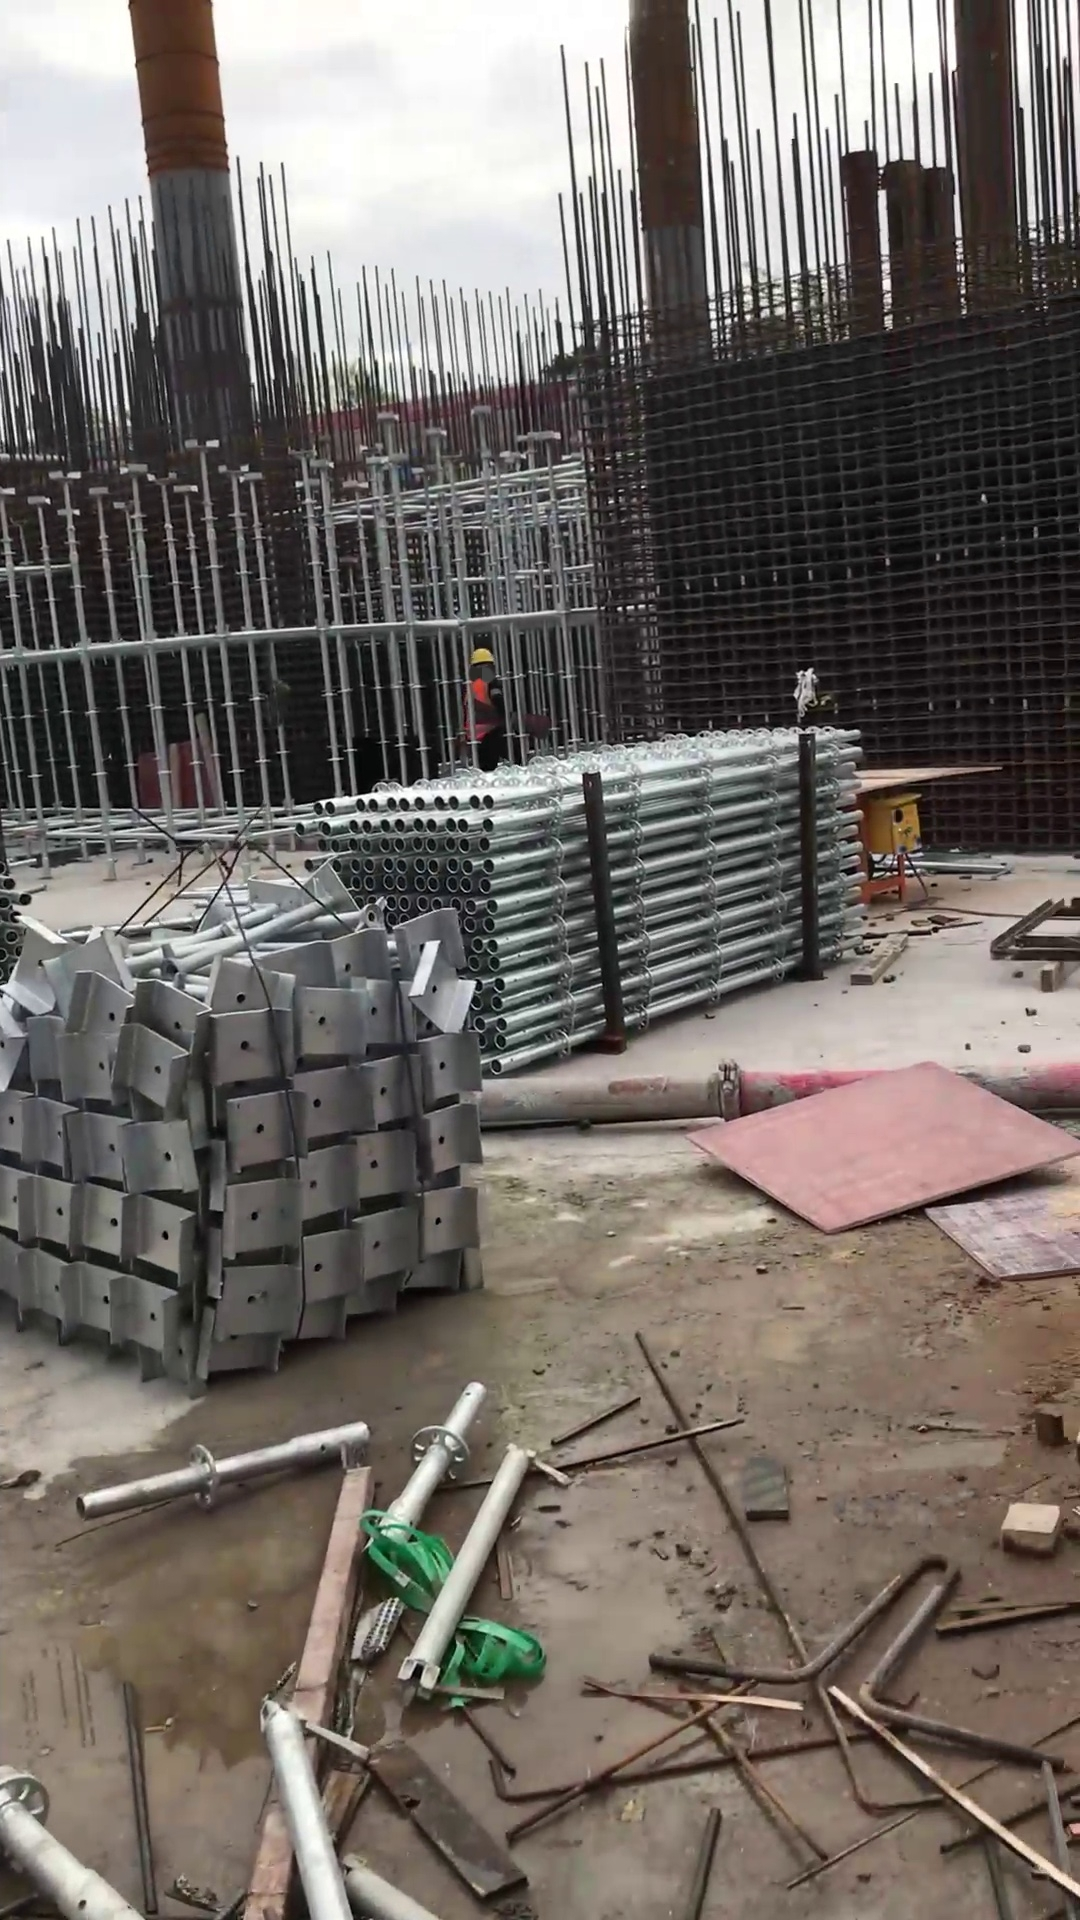cutter: (851, 759, 1004, 907)
helmet: (467, 644, 495, 666)
person: (459, 646, 508, 772)
scaffold: (291, 722, 872, 1077)
vest: (465, 677, 499, 743)
